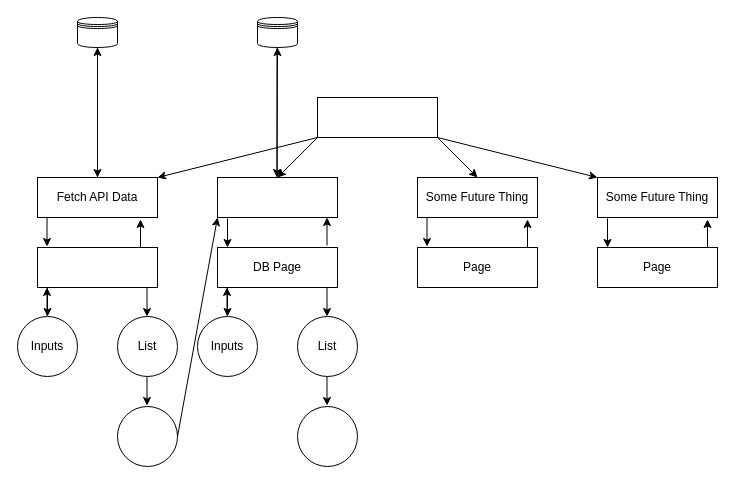
Image size: 735x484. Some labels were removed from this diagram. Here are the shapes that lost their labels. From the top down, the centre of each, then its label:
At point (377, 117): "App".
At point (277, 197): "DB Logic".
At point (97, 267): "API Page".
At point (147, 436): "Save to DB".
At point (327, 436): "Delete from DB".
